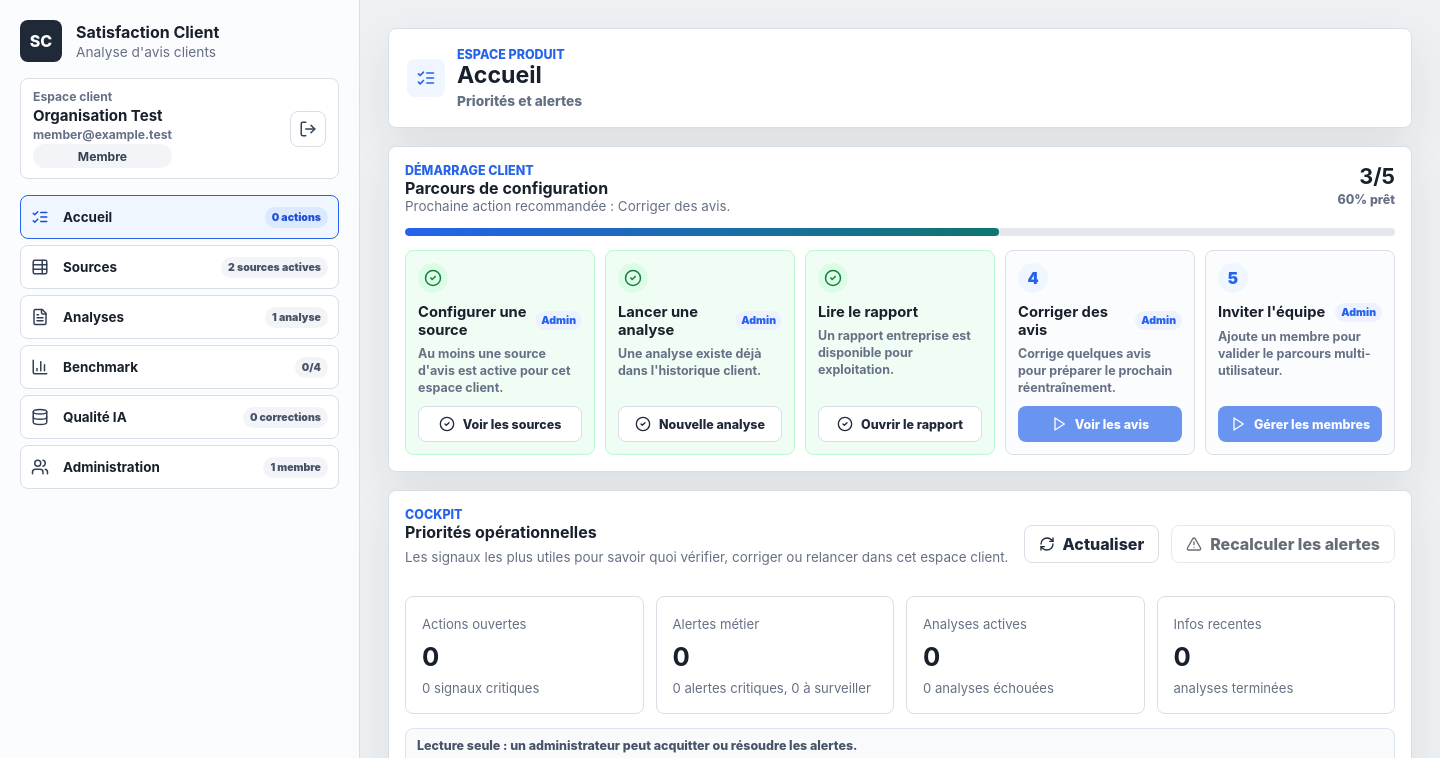
Scenario: App authentication and permissions › keeps full review details available without correction actions in read-only mode
Expected: the text "member@example.test" is shown, [33, 127, 172, 142]
Click the button "Analyses 1 analyse" at [94, 317], box [20, 295, 339, 339]
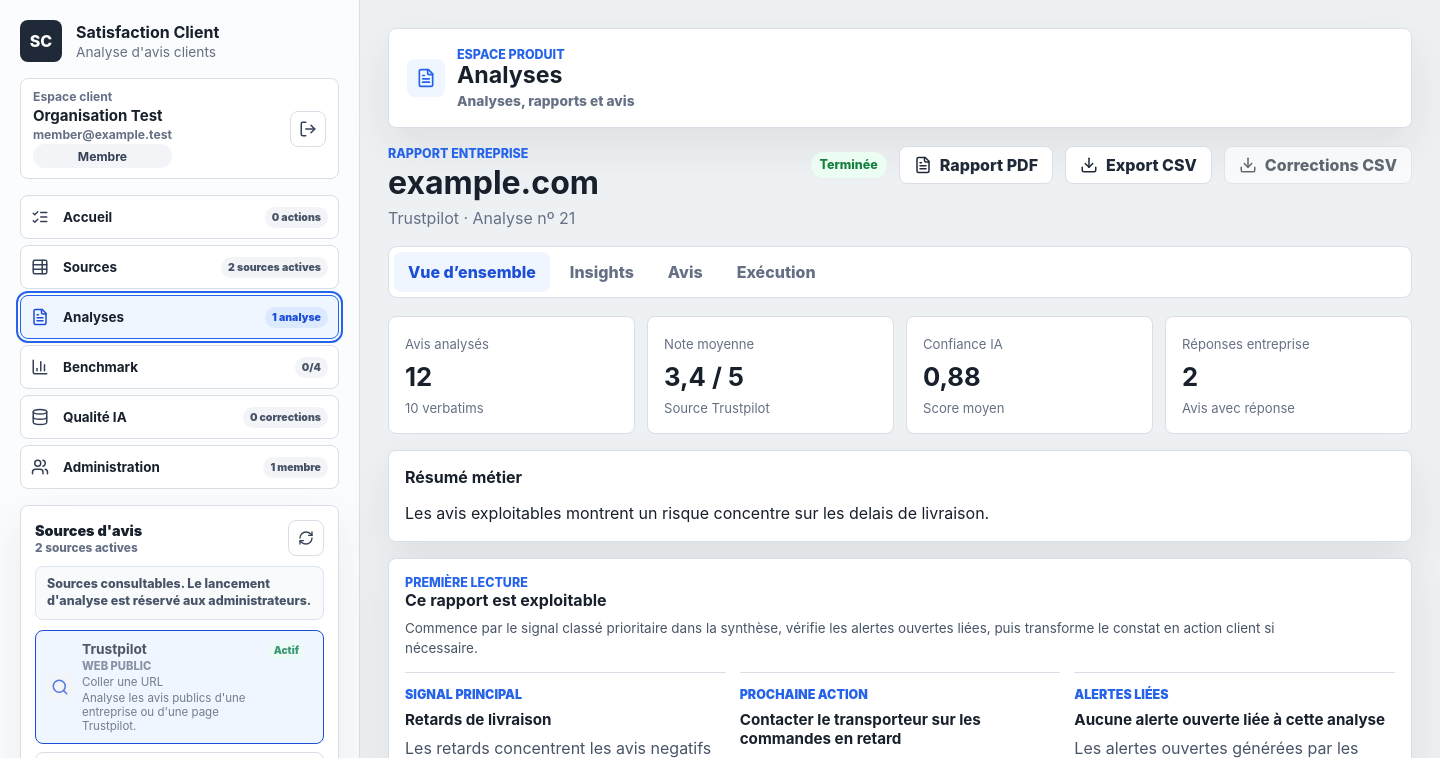
Click the tab "Avis" at [685, 272], box [654, 252, 717, 292]
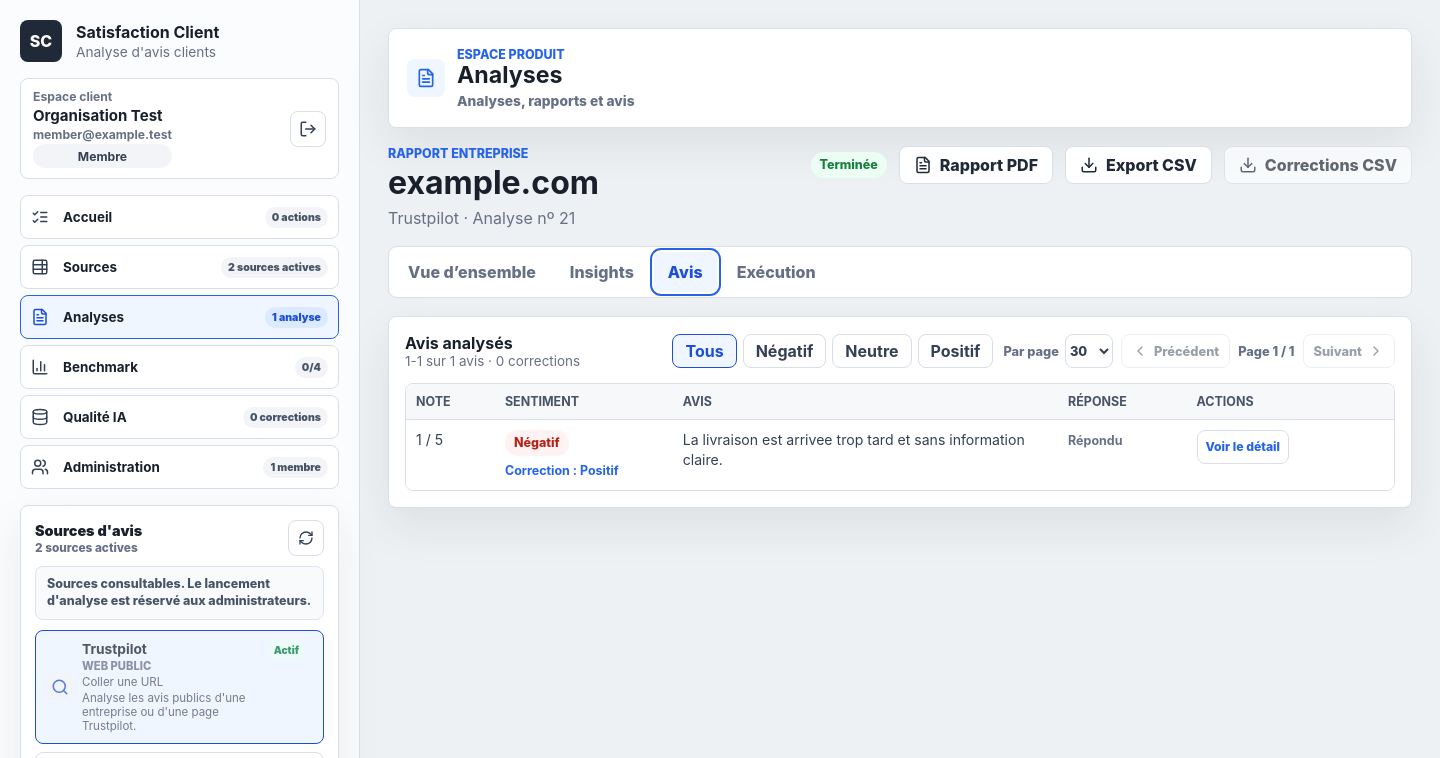
Click the button with aria-label "Voir le détail de l'avis nº 301" at [1243, 447], box [1196, 430, 1289, 464]
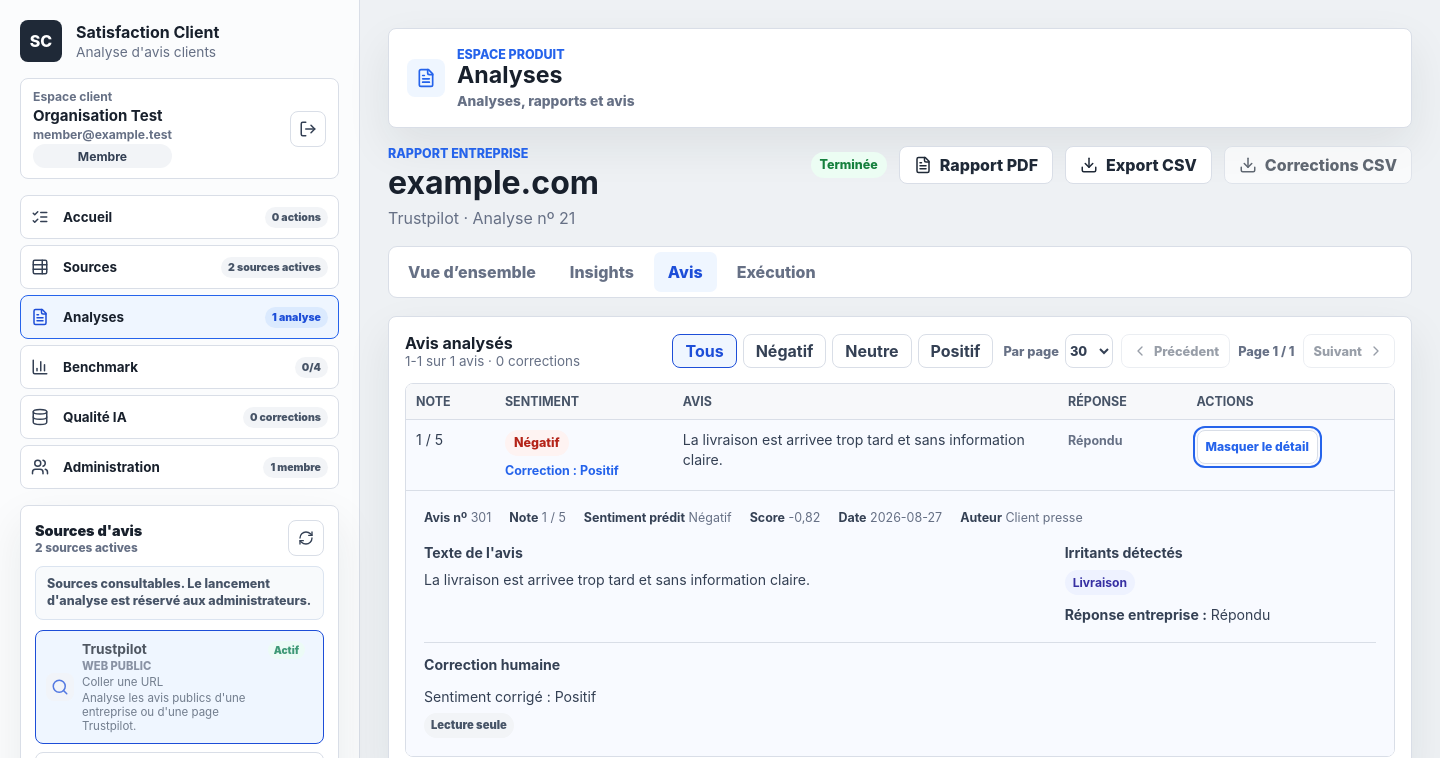
Expected: the text "Répondu" is shown, [1068, 433, 1122, 448]
Expected: the text "Sentiment corrigé : Positif" is shown, [424, 687, 596, 708]
Expected: the text "Lecture seule" is shown, [424, 714, 514, 738]
